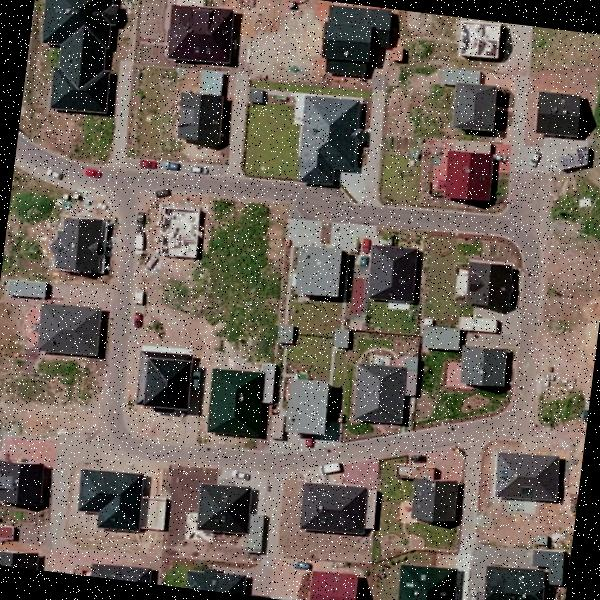Buildings: (34, 0, 125, 110), (419, 316, 517, 390), (296, 90, 370, 186), (74, 470, 170, 534), (348, 344, 422, 426), (202, 358, 275, 438), (31, 295, 108, 366), (323, 3, 393, 81), (486, 541, 571, 600), (174, 69, 232, 154), (299, 478, 372, 536), (169, 5, 236, 65), (363, 244, 426, 304), (196, 486, 260, 542), (495, 453, 565, 503), (438, 152, 506, 201), (282, 372, 334, 436), (51, 214, 114, 266), (463, 252, 521, 308), (132, 352, 188, 410), (150, 204, 204, 258), (456, 18, 514, 68), (293, 245, 346, 298), (389, 563, 456, 600), (450, 84, 500, 132), (538, 94, 588, 141), (414, 476, 461, 526), (0, 459, 50, 503), (86, 556, 154, 584), (189, 568, 252, 596), (302, 573, 359, 600), (0, 548, 54, 572)
